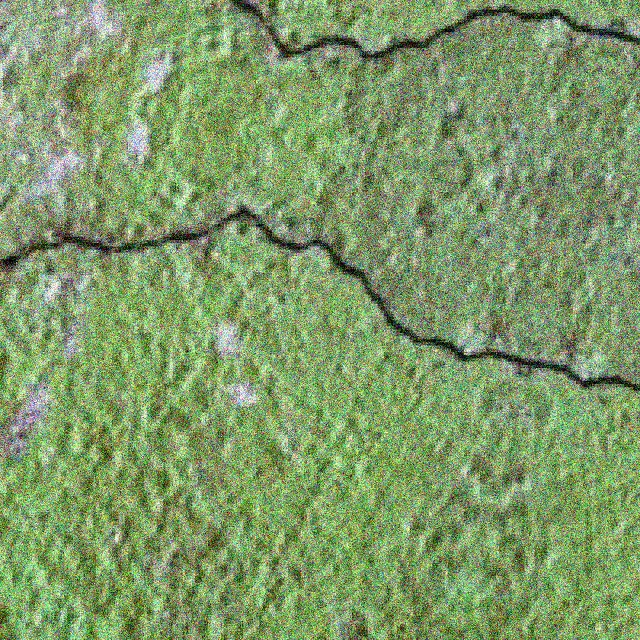SurfaceCrack: (20, 202, 640, 430)
